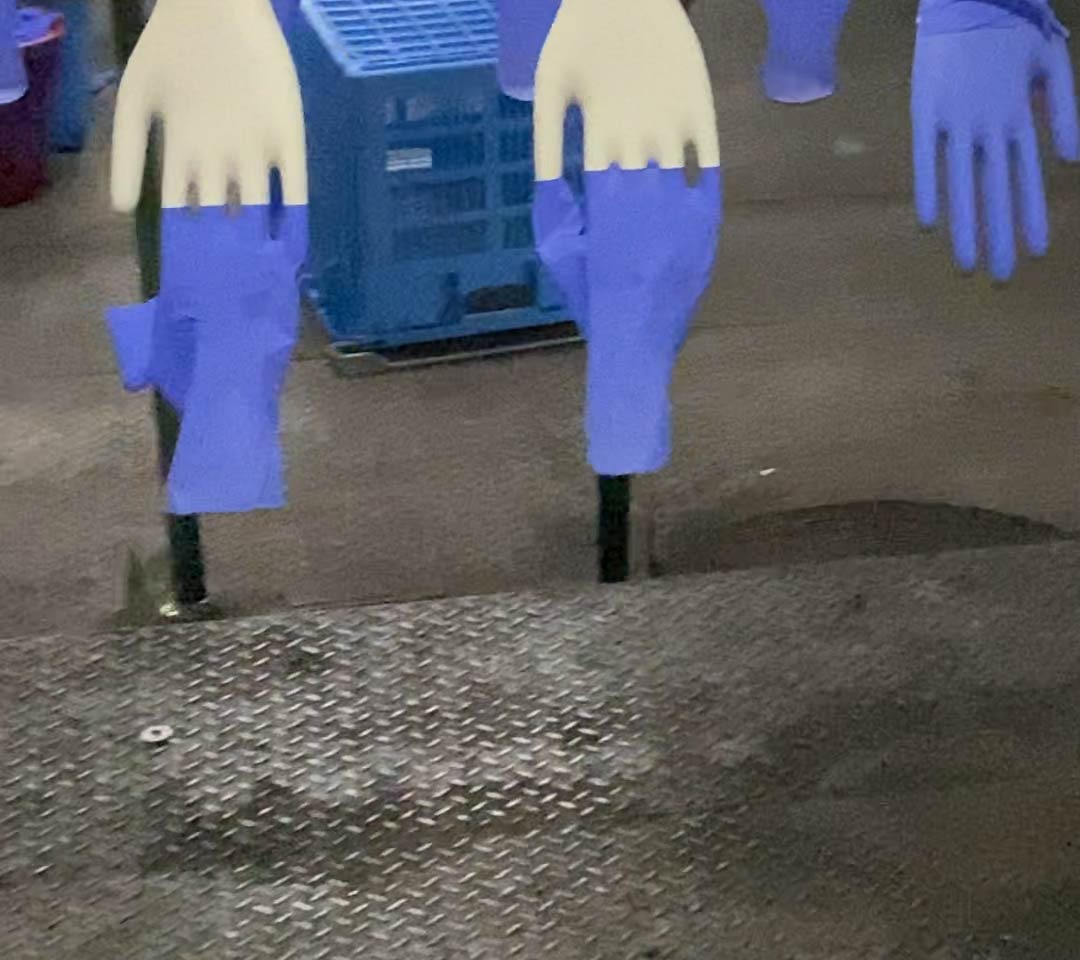glove: (111, 190, 314, 520), (526, 160, 718, 484), (897, 2, 1080, 287)
